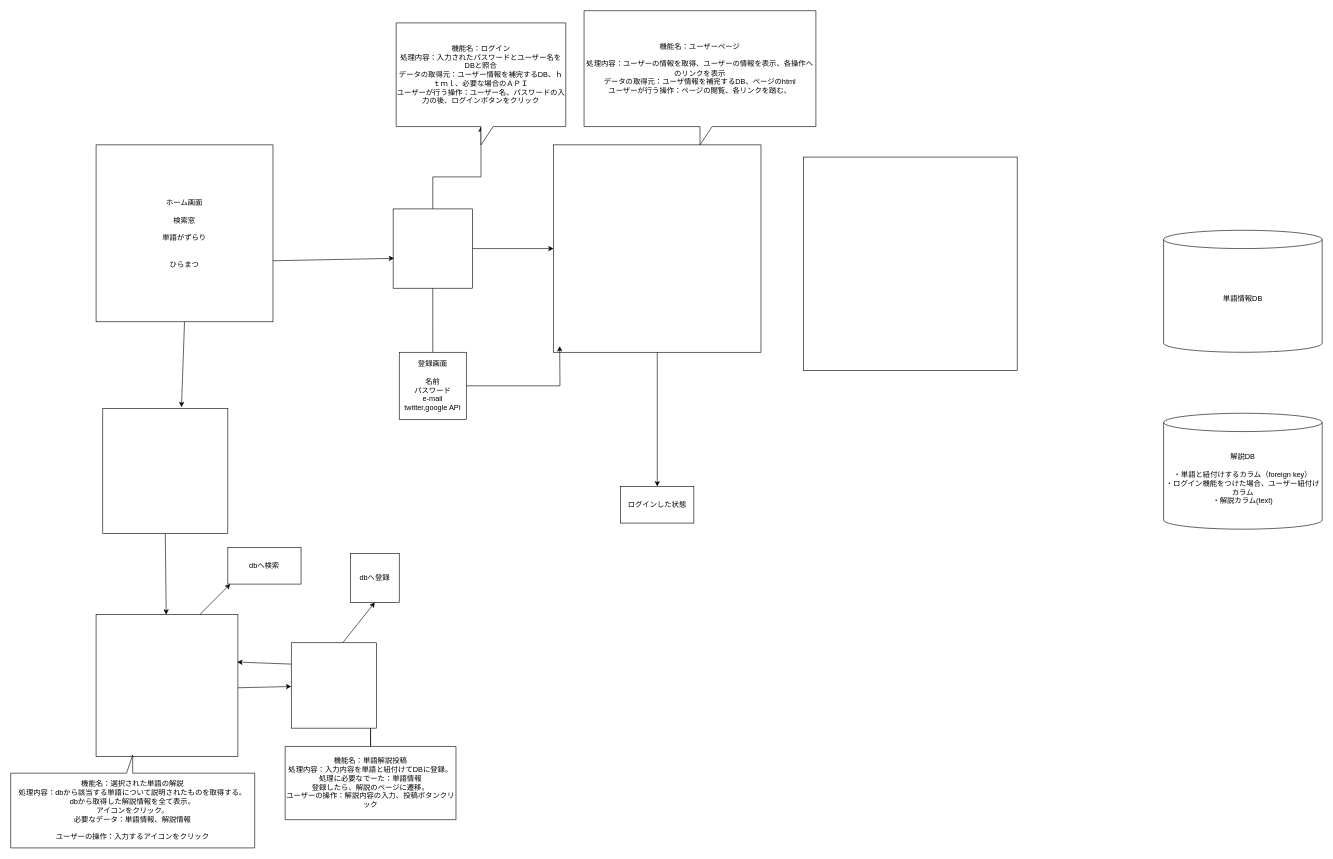
The diagram is 1333 pixels wide and 859 high, and some of its shapes have lost their labels. Here are the shapes that lost their labels. From the top down, the centre of each, then its label:
(x=432, y=248): ログイン パスワード ユーザー名 ひろみ
(x=657, y=248): ユーザーページ ユーザー名 過去の投稿一覧 ログアウト s
(x=910, y=263): 機能名 処理内容 処理に必要なデータ データの取得元 ユーザーが行い操作
(x=165, y=470): 単語 解説 解説 解説 ひらまつ
(x=166, y=685): 単語の解説 書き込むアイコン りょーへい
(x=334, y=685): 解説 投稿 りょーへい
